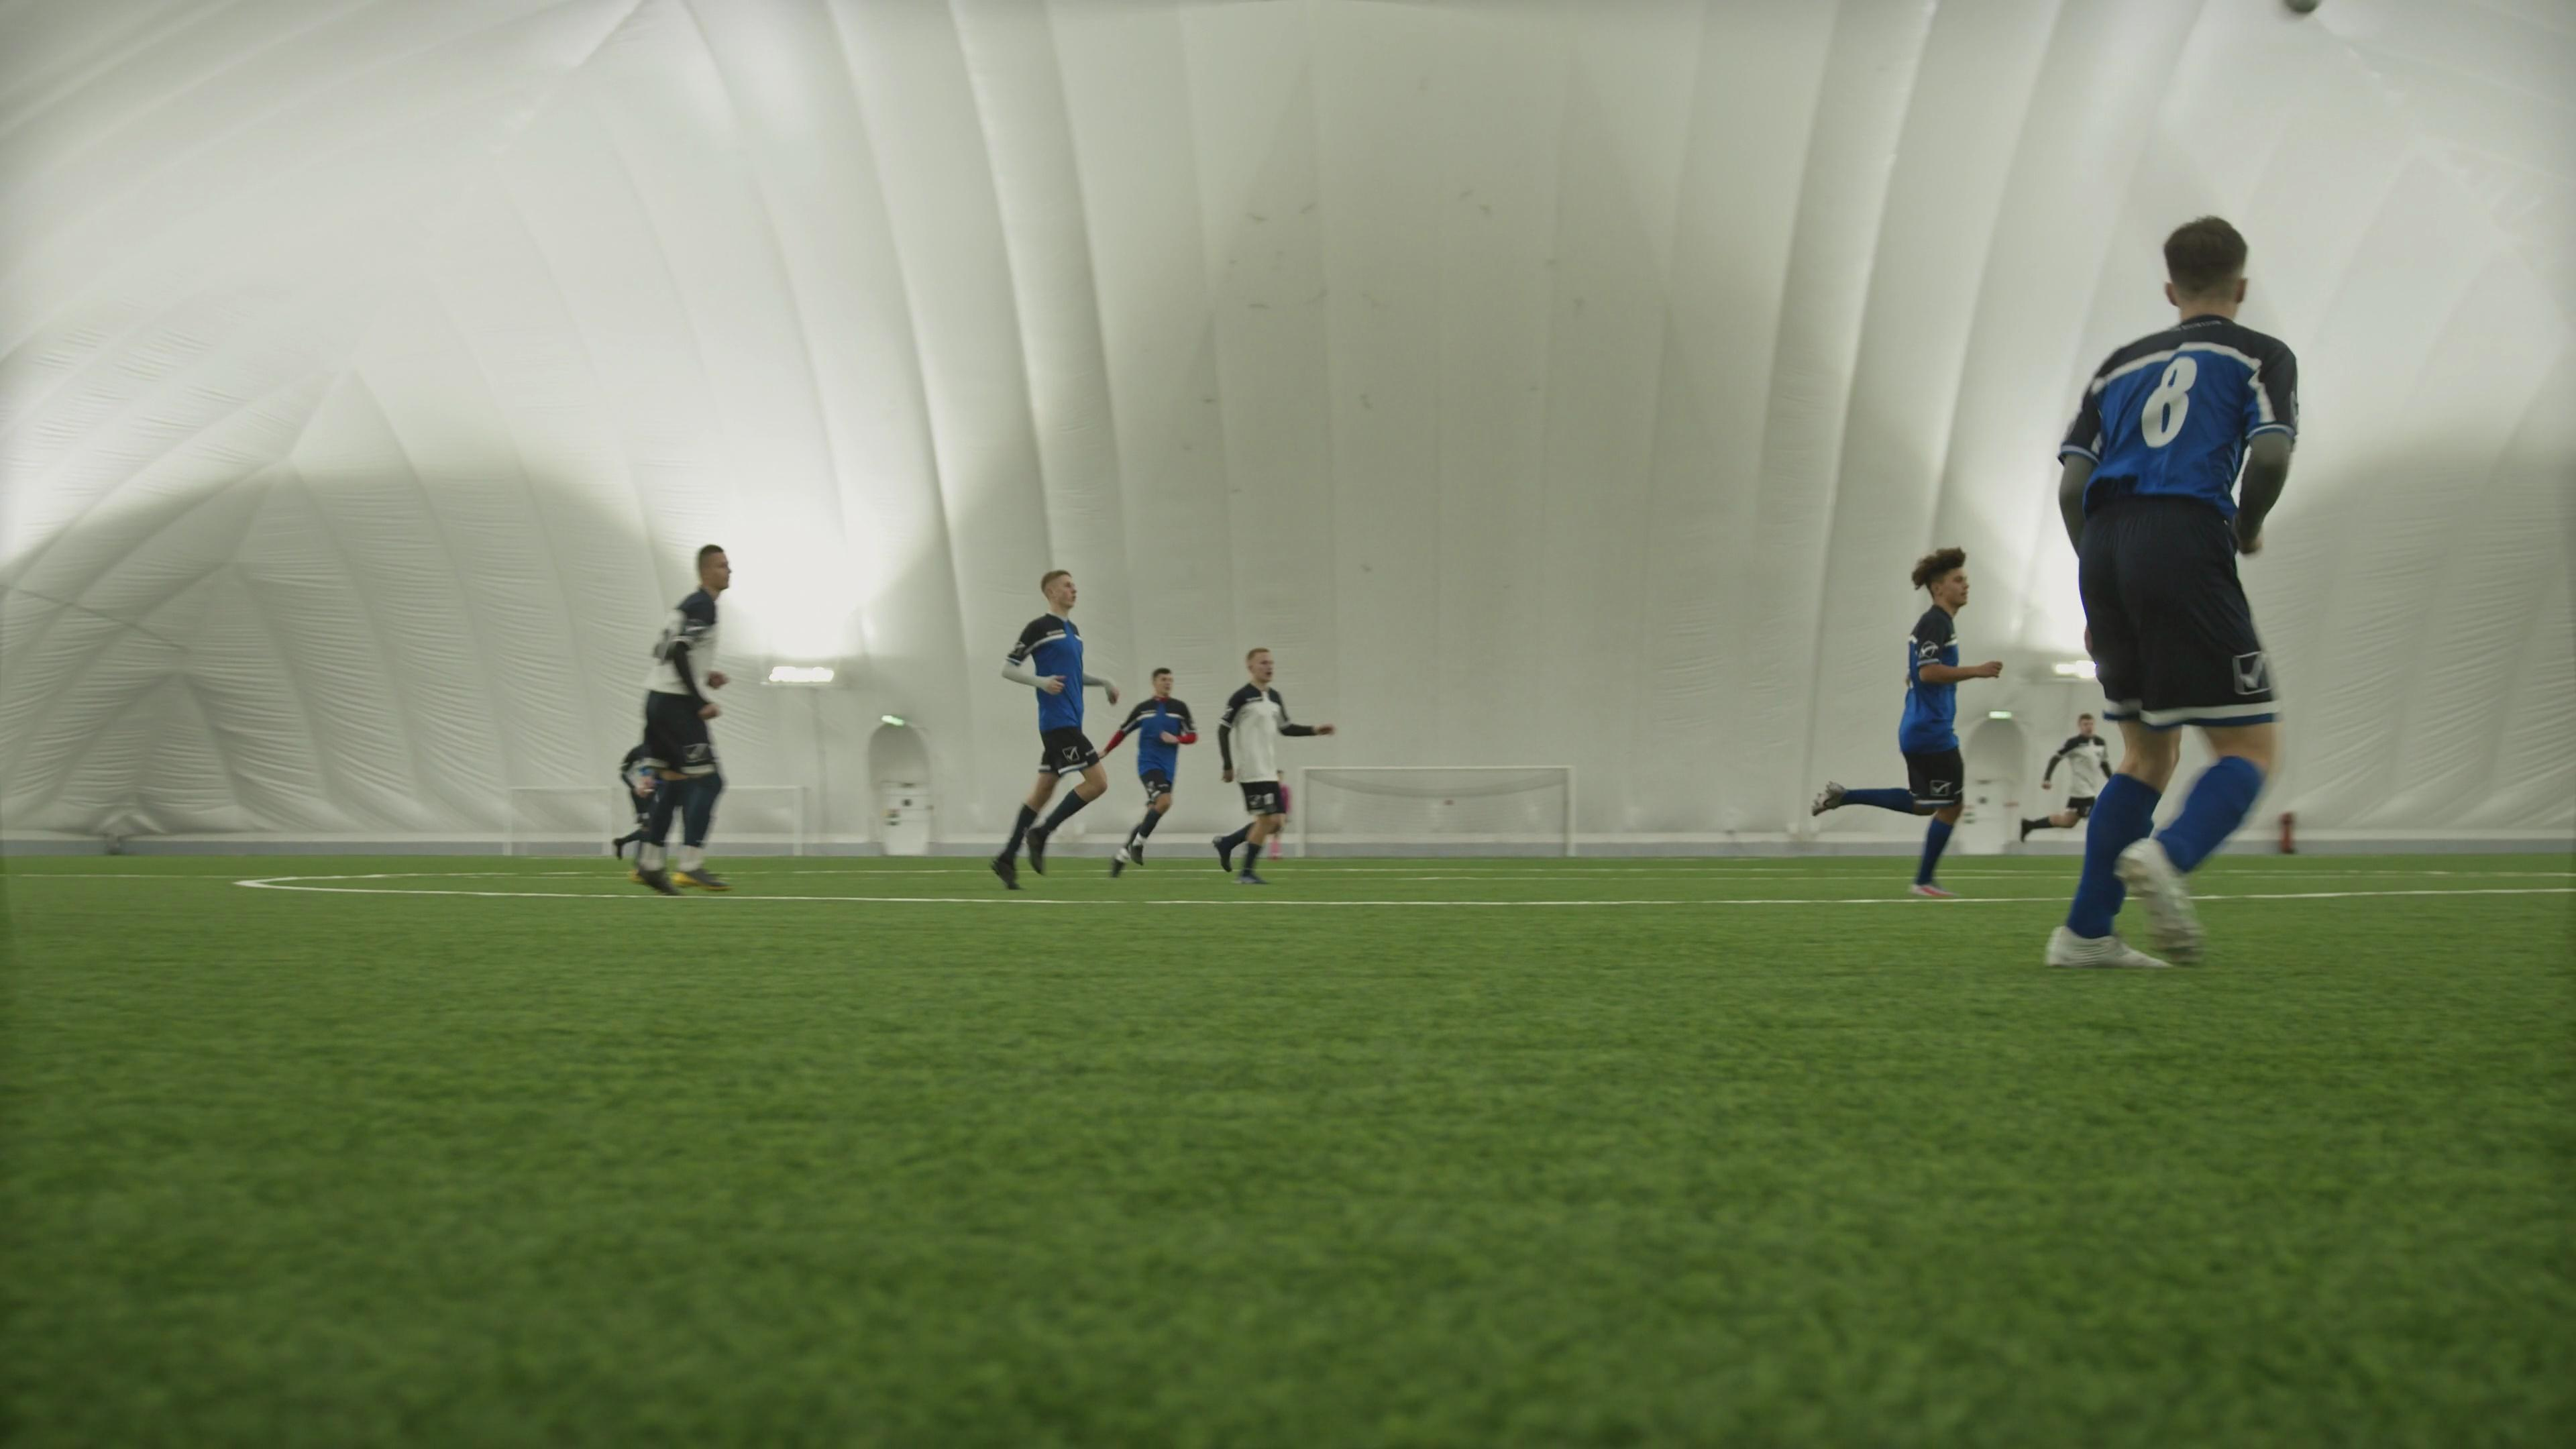team1: (2040, 218, 2302, 973), (989, 571, 1111, 886), (1898, 554, 1996, 895), (1106, 660, 1200, 876)
team2: (617, 543, 738, 895), (1214, 642, 1334, 883), (2022, 704, 2116, 832)
